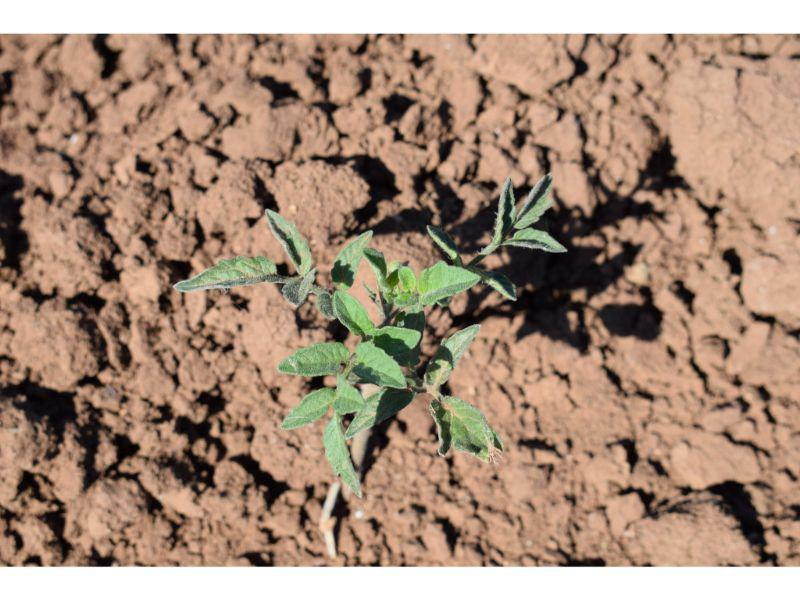tomato: (174, 167, 567, 495)
